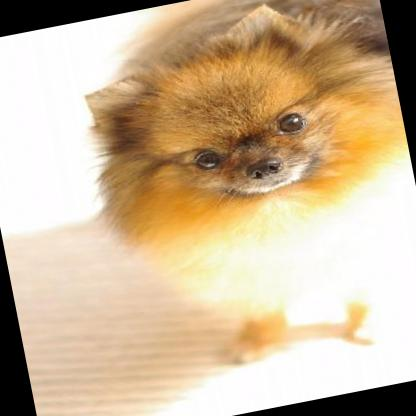Pomeranian: (52, 0, 416, 389)
